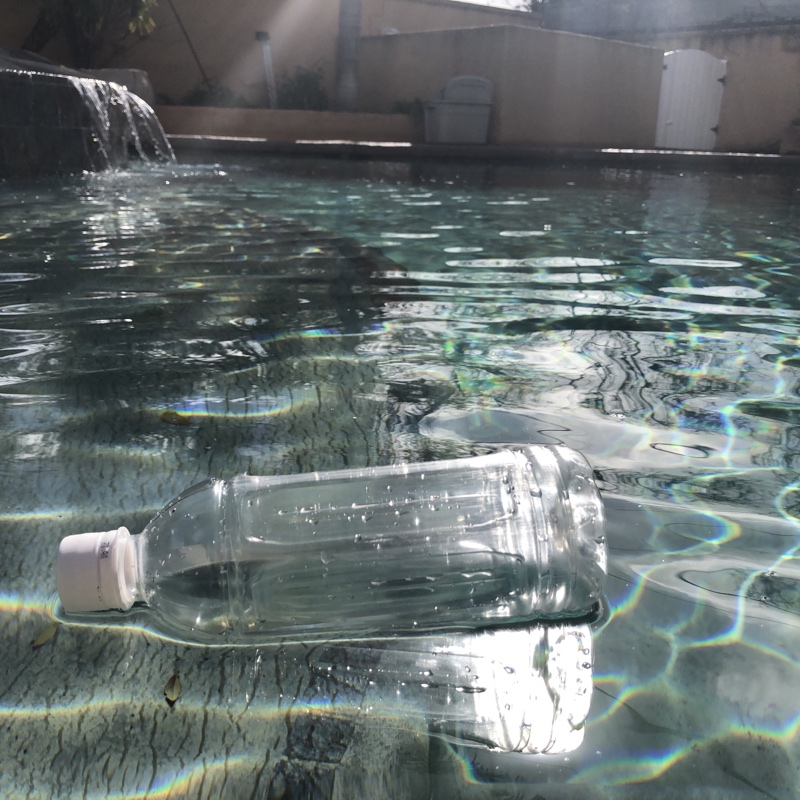Plastic Bottle: (52, 438, 616, 647)
